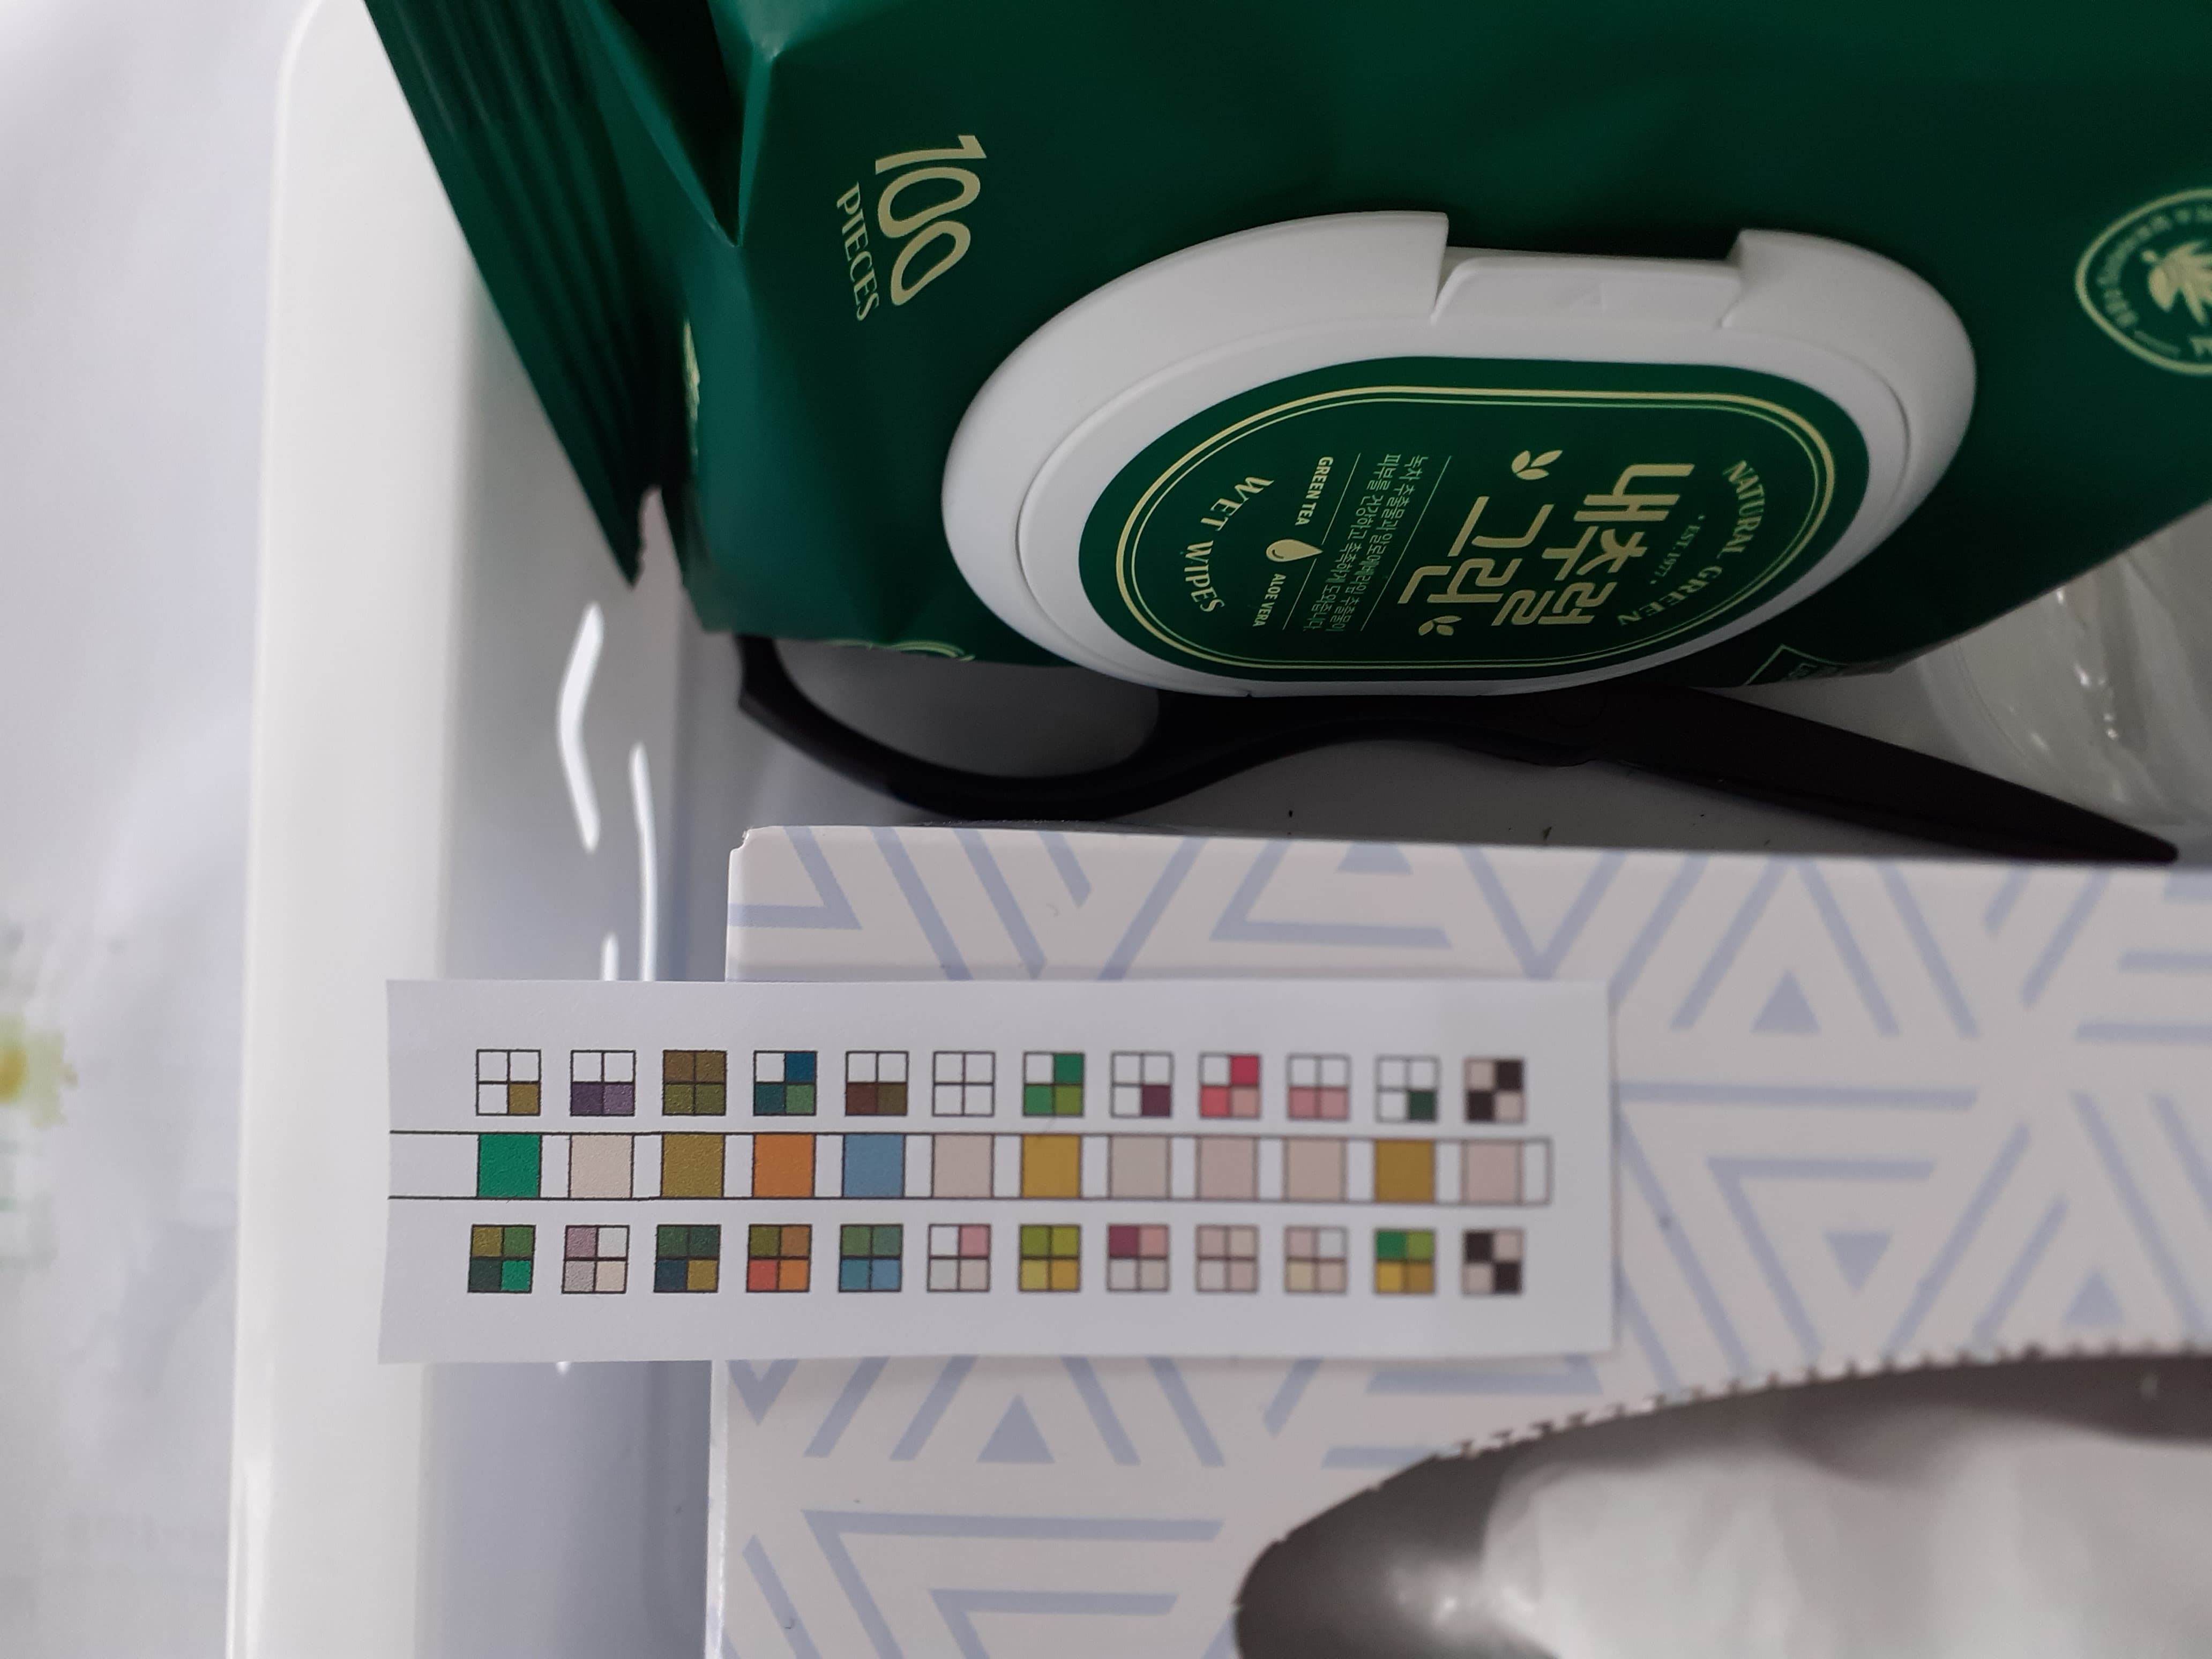tester: (387, 981, 1611, 1352)
